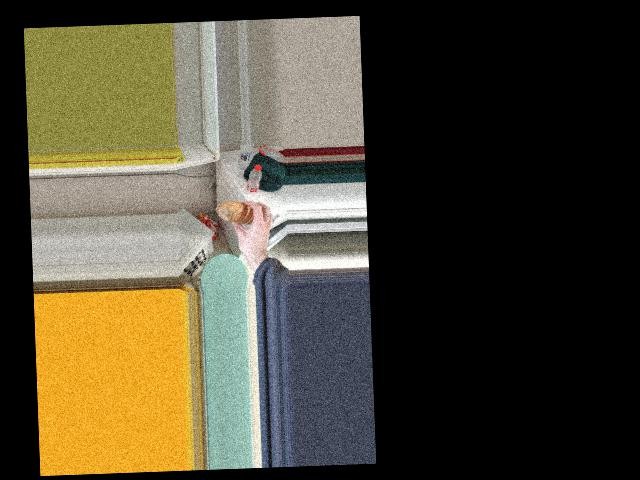sweet_potato: (225, 198, 257, 230)
